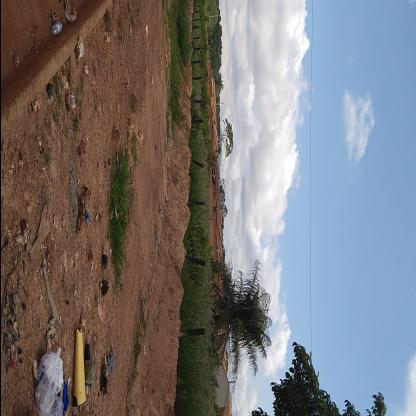lixo: (24, 334, 90, 415)
